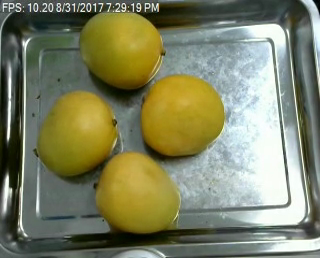Mango: (140, 70, 223, 154), (37, 90, 116, 177), (81, 7, 164, 89), (92, 153, 178, 232)
